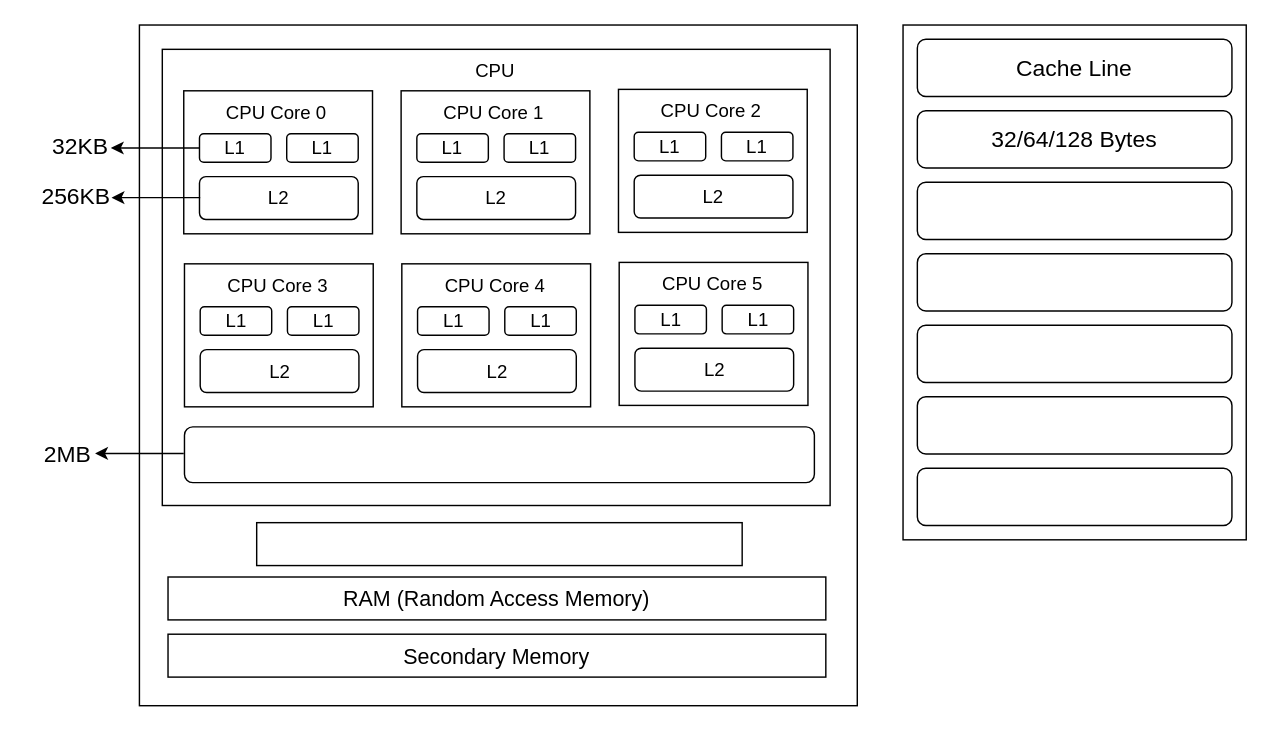
Some shapes in this 1271 by 731 pixel diagram are drawn without their labels. Here are the shapes that lost their labels. From the top down, the box of each, then its label:
(183, 425, 814, 483): Cache L3 (Shared)
(255, 521, 742, 566): Memory Controller
